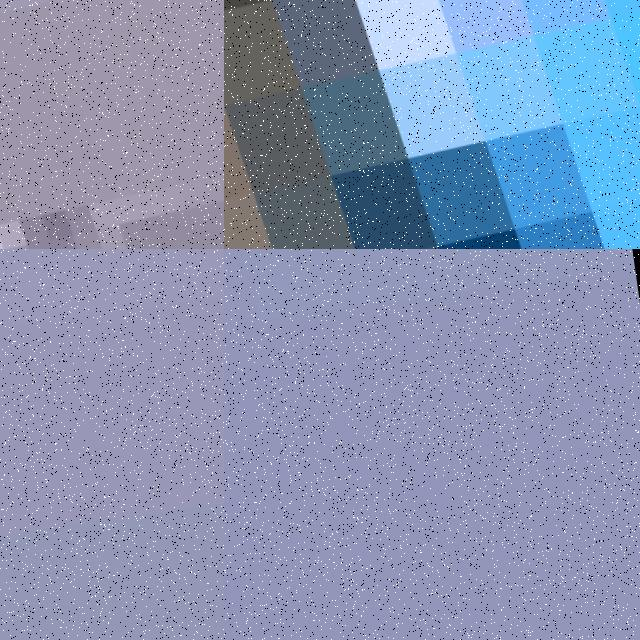0: (0, 0, 224, 249)
drone: (224, 0, 640, 249)
